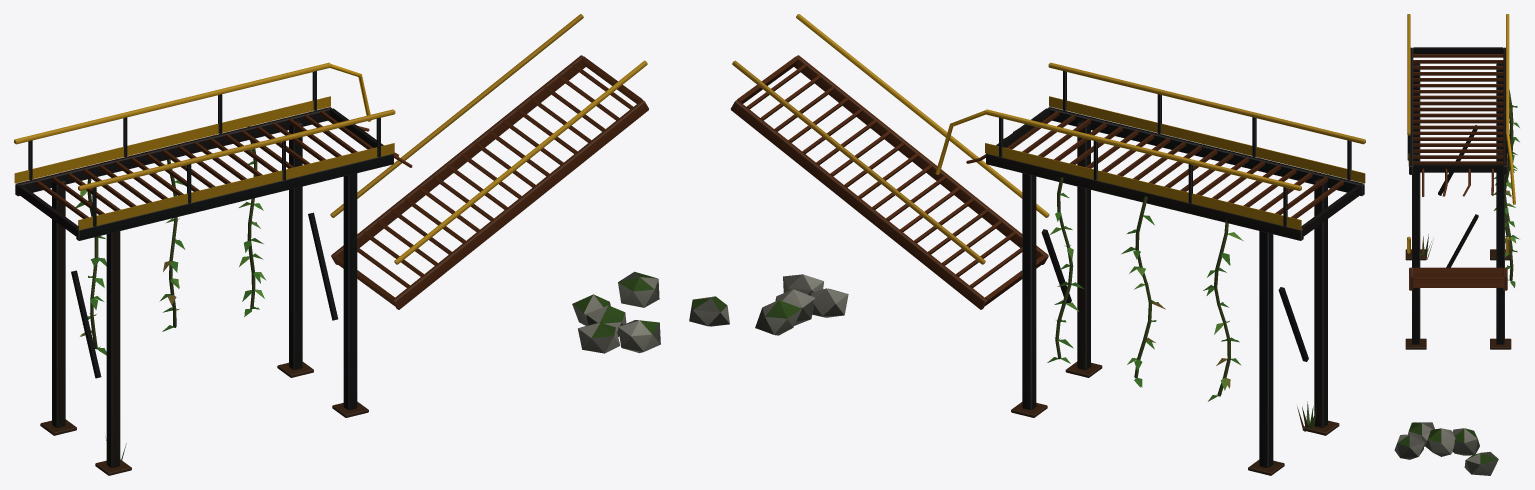
Rendered from broken_catwalk.glb.
3 views of the same model, side by side, from view 1: azimuth 30°, elevation 25°; view 2: azimuth 150°, elevation 25°; view 3: azimuth 270°, elevation 25° (orthographic). The views are drawn at different scales.
Visible parts, largest first — view 1: Mesh; view 2: Mesh; view 3: Mesh.
Boxes of the visible parts, x1,y1,x2,y2 form: Mesh: (14,14,660,475); Mesh: (689,14,1365,475); Mesh: (1394,14,1519,475).
Size of the model in its own units: 7.93 by 3.69 by 1.79.
